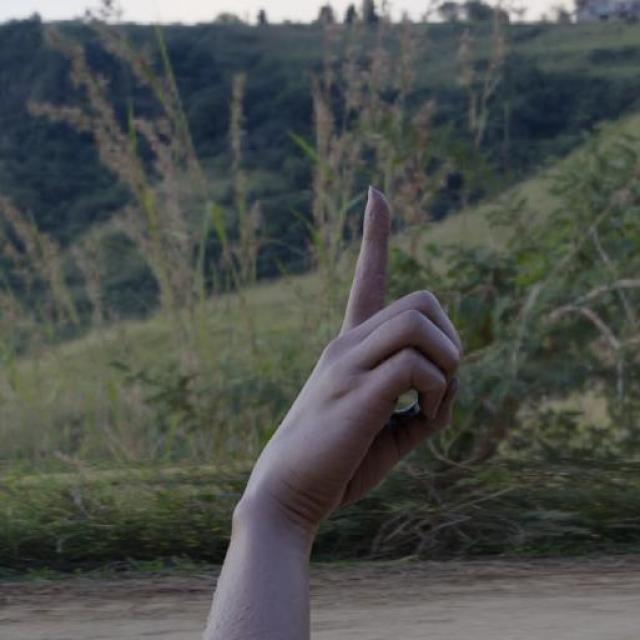D: (230, 181, 464, 528)
